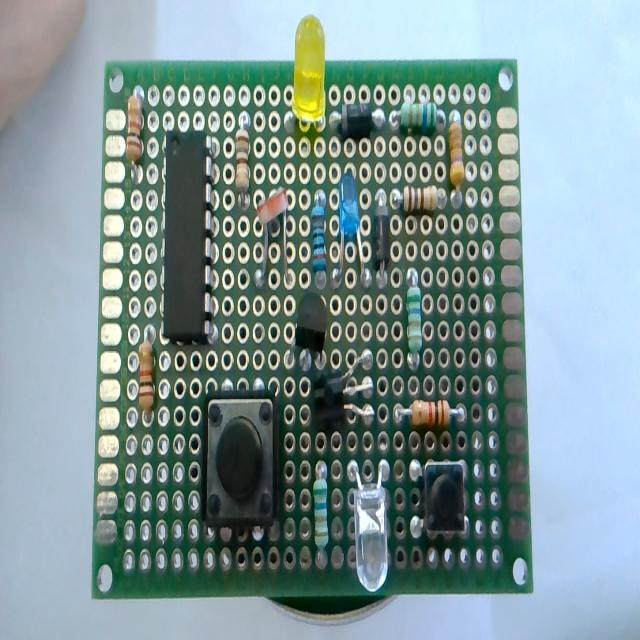IC: (164, 122, 218, 348)
cds: (254, 184, 294, 295)
diode: (330, 95, 390, 141), (370, 183, 390, 292)
led: (343, 449, 392, 601), (289, 8, 329, 142), (335, 165, 367, 308)
resistor: (393, 390, 468, 434), (388, 175, 447, 226), (393, 89, 443, 146), (401, 265, 427, 371), (308, 457, 332, 567), (448, 98, 468, 217), (308, 180, 330, 282), (136, 326, 156, 426), (124, 92, 148, 174), (235, 104, 252, 213)
switch: (199, 384, 290, 548)
transistor: (311, 346, 381, 437), (286, 286, 328, 364)
